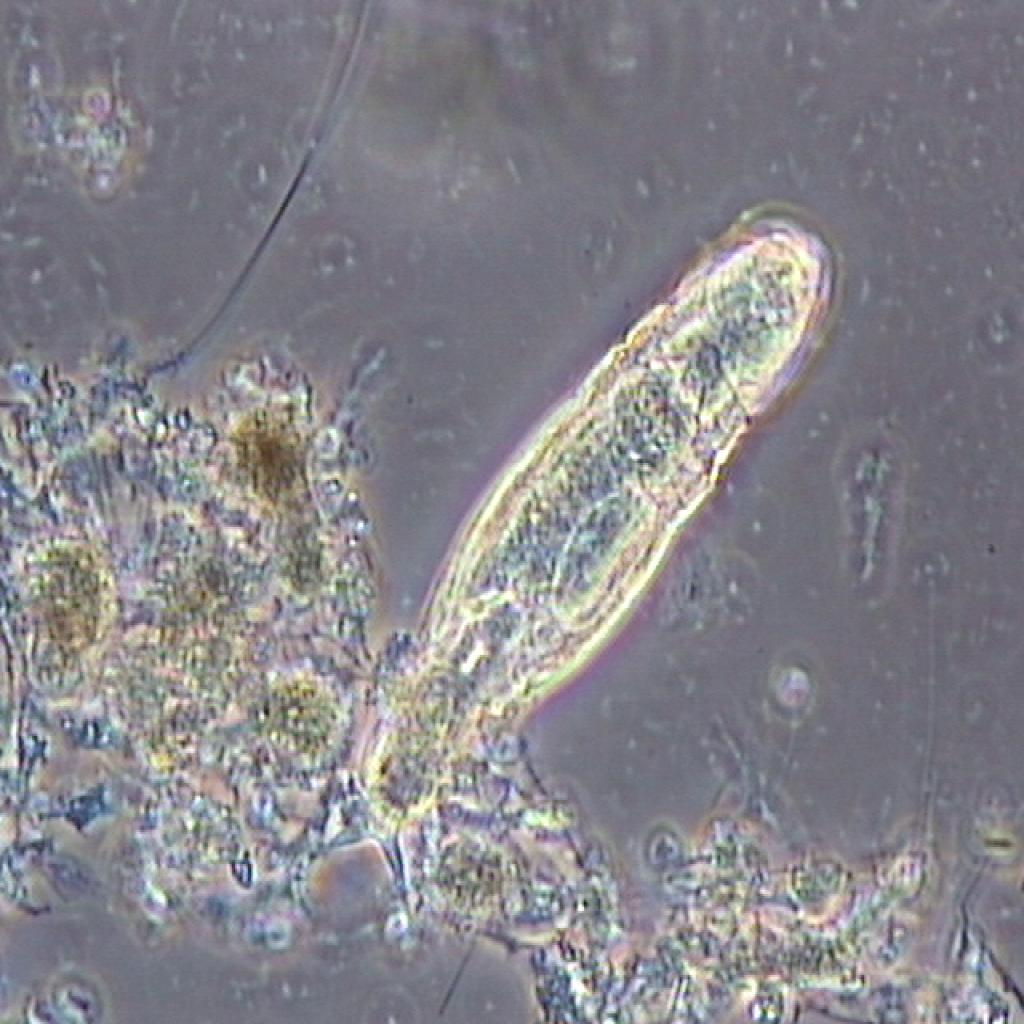Rotatoria: (318, 188, 850, 896)
